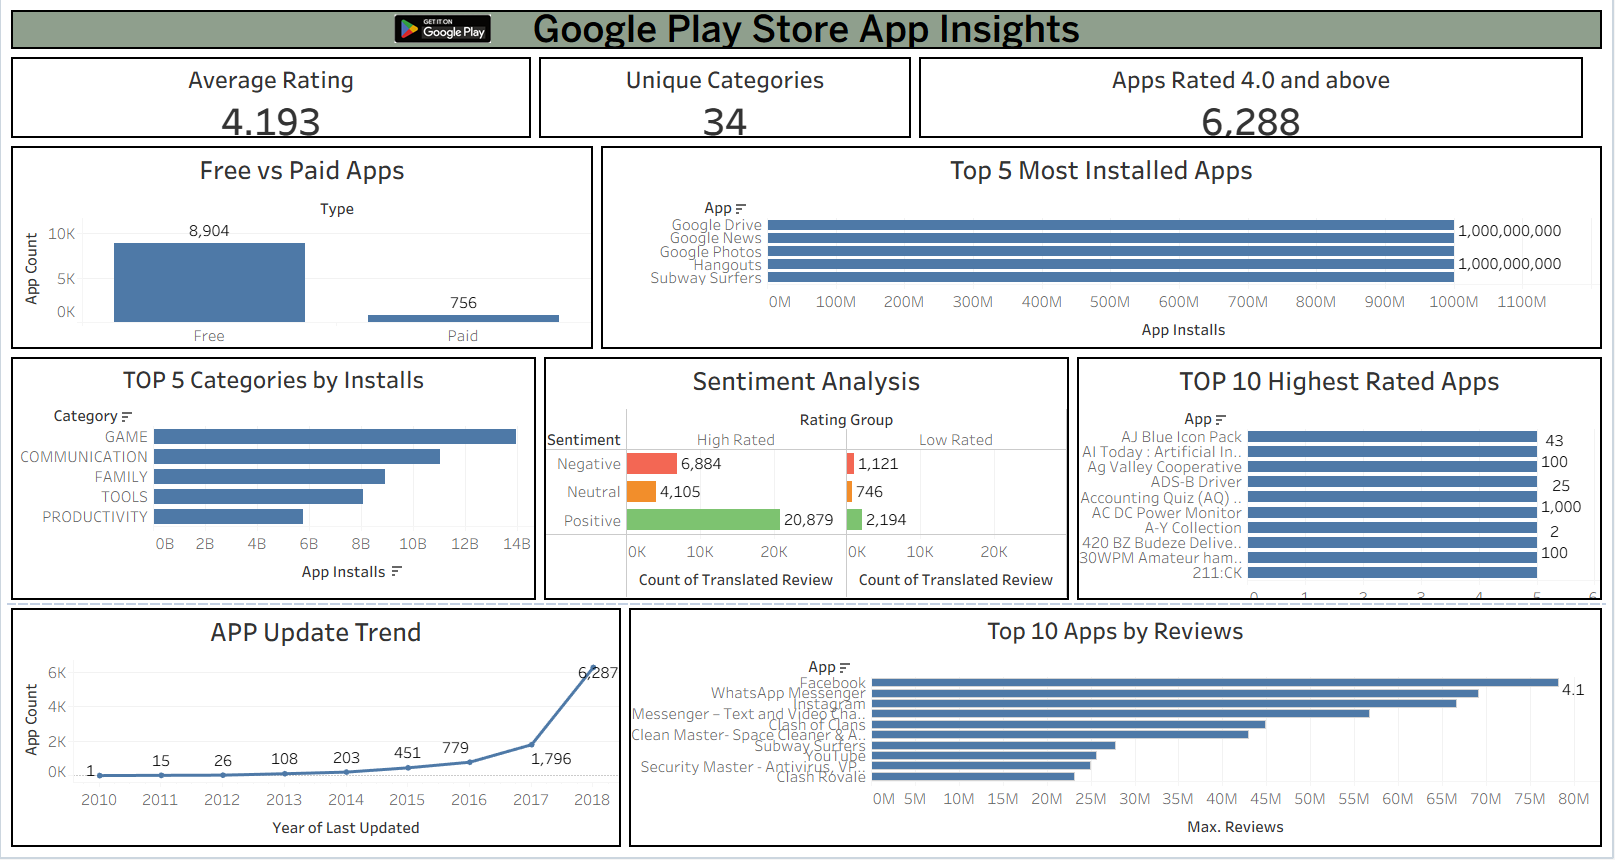

The dashboard page shown, as its layout file describes it:
{"tool":"tableau","page":{"name":"App Insights Dashboard","canvas":[1000,1000],"units":"permille","ordinal":0},"visuals":[{"type":"text","box":[5,9.3,990.1,54.6]},{"type":"image","param":"Image/Capture.PNG","box":[244.6,18.6,60.1,36]},{"type":"worksheet","title":"Q1 - Average Rating","mark":"Automatic","box":[5,63.9,326.9,103.4]},{"type":"worksheet","title":"Q2 - Unique Categories","mark":"Automatic","box":[331.9,63.9,235.3,103.4]},{"type":"worksheet","title":"Q7 - Apps Rated 4.0 and Above","mark":"Automatic","box":[567.1,63.9,416.1,103.4]},{"type":"worksheet","title":"Q4 - Free vs Paid Apps","mark":"Bar","rows":["App"],"cols":["Type"],"box":[5,167.2,365.3,245.1]},{"type":"worksheet","title":"Q6 - Top 5 Most Installed Apps","mark":"Automatic","rows":["App"],"cols":["Calculation_0923905784995845"],"box":[370.3,167.2,624.8,245.1]},{"type":"worksheet","title":"M10 - Top 5 Categories by Installs","mark":"Automatic","rows":["Category"],"cols":["Calculation_0923905784995845"],"box":[5,412.3,330,291.5]},{"type":"worksheet","title":"A4 - Sentiment Analysis","mark":"Bar","rows":["Sentiment"],"cols":["Calculation_0923905820520459","Translated_Review"],"box":[334.9,412.3,330.1,291.5]},{"type":"worksheet","title":"A1 - Top 10 Highest Rated Apps","mark":"Bar","rows":["App"],"cols":["Calculation_0923905812393993"],"box":[665,412.3,330.1,291.5]},{"type":"worksheet","title":"A2 - App Update Trend","mark":"Automatic","rows":["App"],"cols":["Last Updated"],"box":[5,703.8,382.7,286.9]},{"type":"worksheet","title":"M8 - Top 10 Apps by Reviews","mark":"Automatic","rows":["App"],"cols":["Reviews"],"box":[387.6,703.8,607.4,286.9]}]}

Visuals, with their boxes on the dashboard's canvas, which has no fixed pixel size, in thousandths of its width and height (x1, y1, x2, y2). These are canvas units, not pixel positions in the 1615x860 screenshot, which may show the page scaled, cropped or inside an application window:
text: <bbox>5, 9, 995, 64</bbox>
image: <bbox>245, 19, 305, 55</bbox>
"Q1 - Average Rating" worksheet: <bbox>5, 64, 332, 167</bbox>
"Q2 - Unique Categories" worksheet: <bbox>332, 64, 567, 167</bbox>
"Q7 - Apps Rated 4.0 and Above" worksheet: <bbox>567, 64, 983, 167</bbox>
"Q4 - Free vs Paid Apps" worksheet (Bar marks): <bbox>5, 167, 370, 412</bbox>
"Q6 - Top 5 Most Installed Apps" worksheet: <bbox>370, 167, 995, 412</bbox>
"M10 - Top 5 Categories by Installs" worksheet: <bbox>5, 412, 335, 704</bbox>
"A4 - Sentiment Analysis" worksheet (Bar marks): <bbox>335, 412, 665, 704</bbox>
"A1 - Top 10 Highest Rated Apps" worksheet (Bar marks): <bbox>665, 412, 995, 704</bbox>
"A2 - App Update Trend" worksheet: <bbox>5, 704, 388, 991</bbox>
"M8 - Top 10 Apps by Reviews" worksheet: <bbox>388, 704, 995, 991</bbox>
